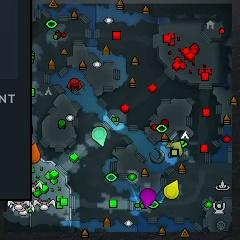p2: (92, 126, 107, 147)
p3: (140, 188, 156, 208)
p4: (164, 180, 179, 199)
p5: (31, 141, 41, 162)
x2: (167, 142, 182, 157)
